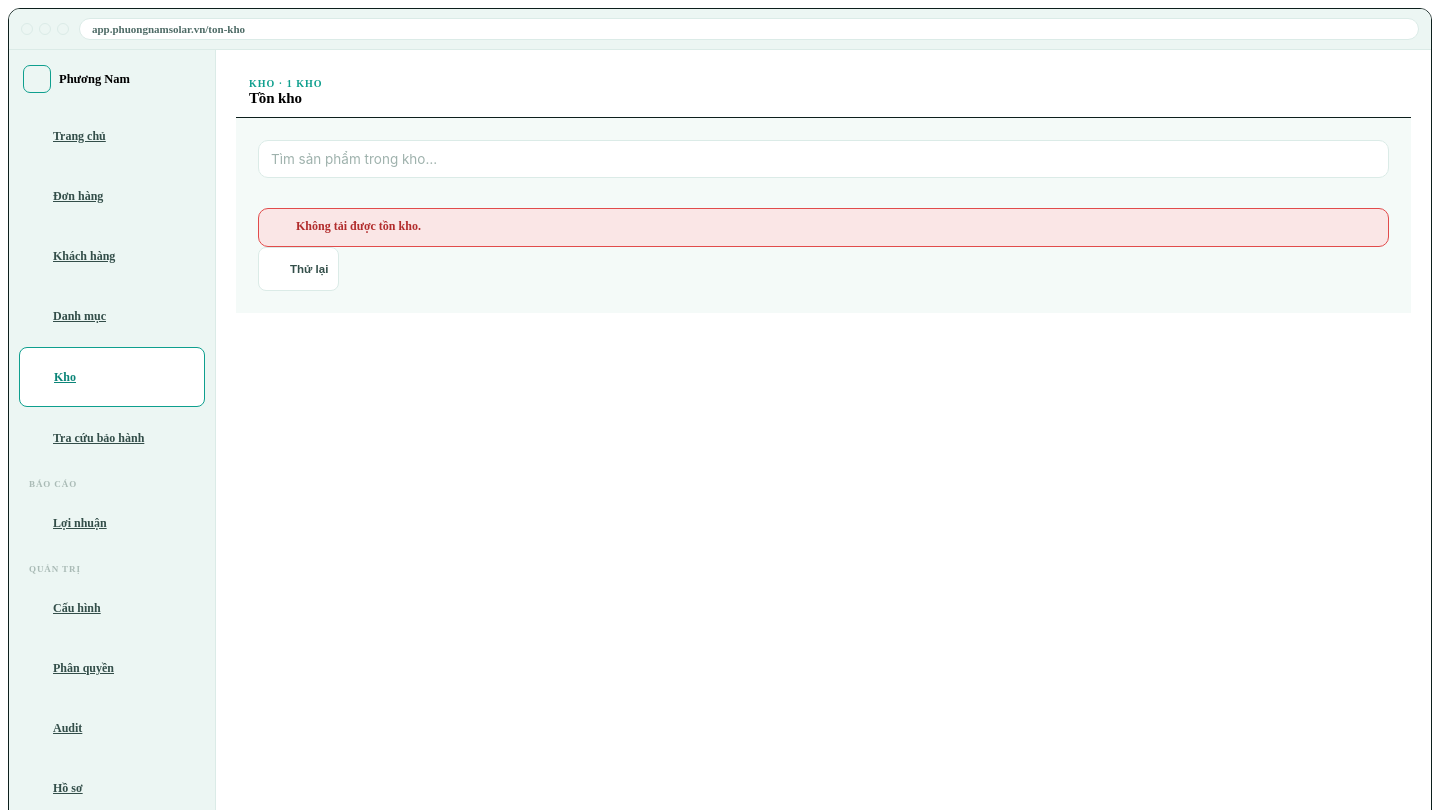
Test: InventoryScreen — hành vi › error: hiện lỗi; bấm Thử lại gọi lại cổng và ra dữ liệu
The width and height of the screenshot is (1440, 810).
Expected: the text "Không tải được tồn kho." is shown, x1=258 y1=208 x2=1389 y2=247
Click the button "Thử lại". click: (299, 269)
box: x1=258 y1=247 x2=339 y2=291
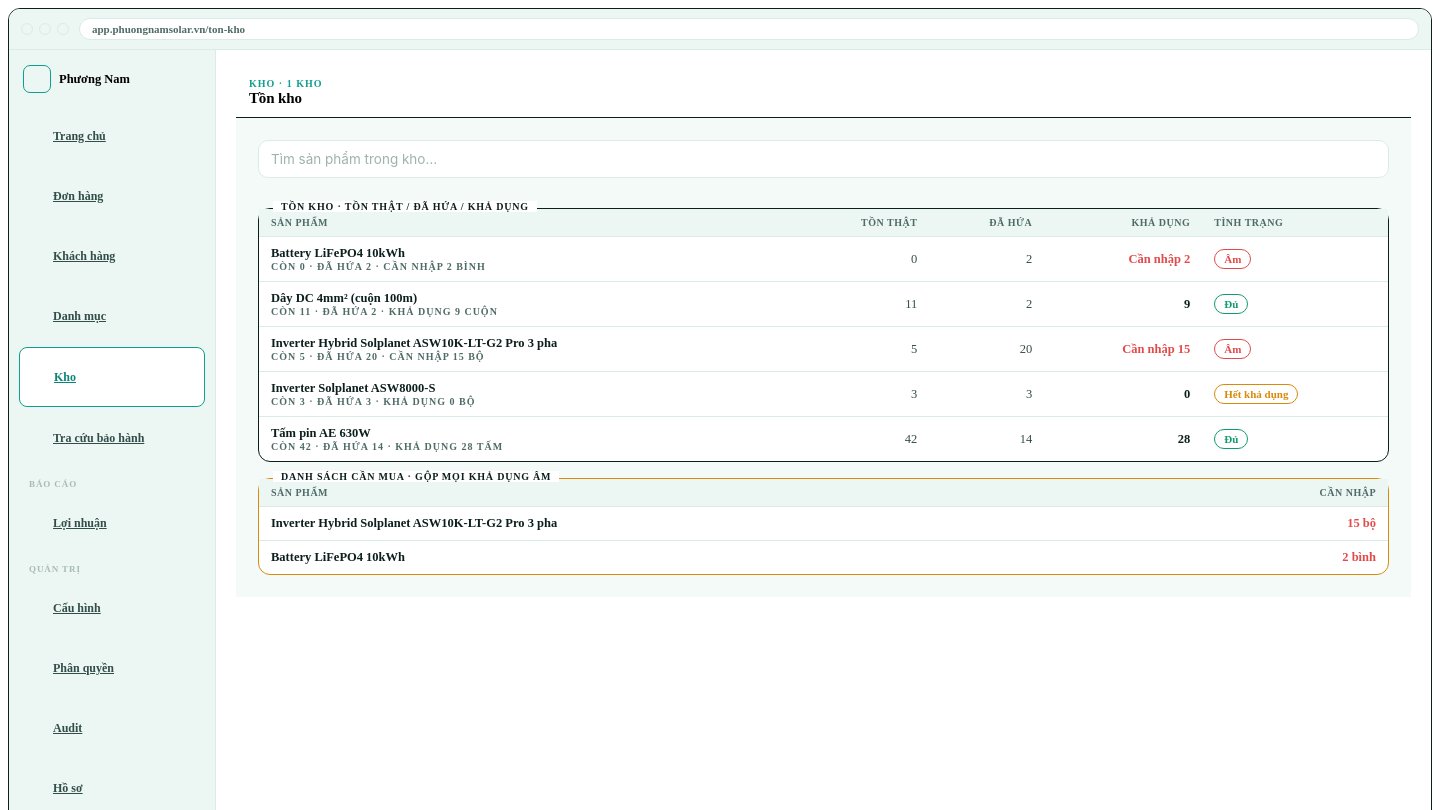
Expected: the text "Không tải được tồn kho." is gone
Expected: the text "Tồn kho · Tồn thật / Đã hứa / Khả dụng" is shown, x1=273 y1=201 x2=537 y2=212
